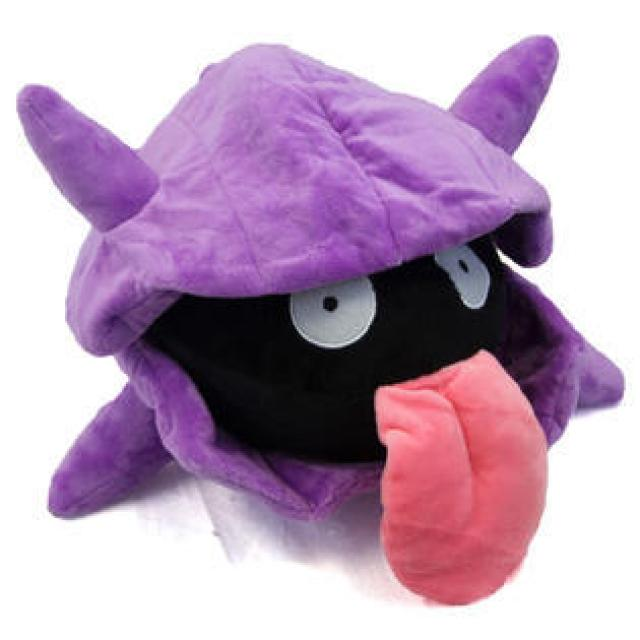Shellder: (46, 37, 574, 524)
